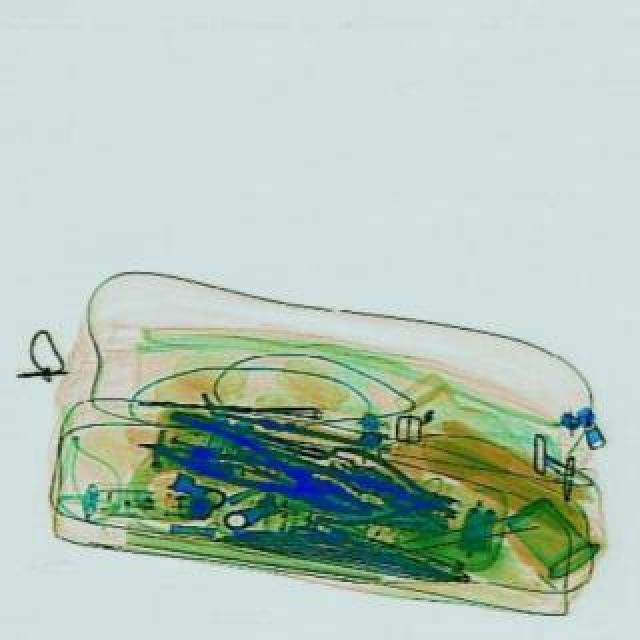wrench: (150, 406, 380, 538), (312, 444, 468, 548)
